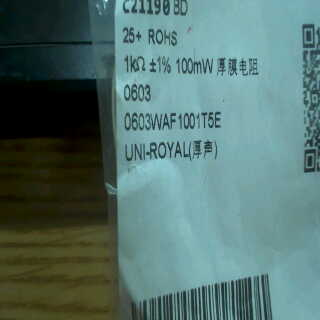1kR: (120, 52, 146, 74)
